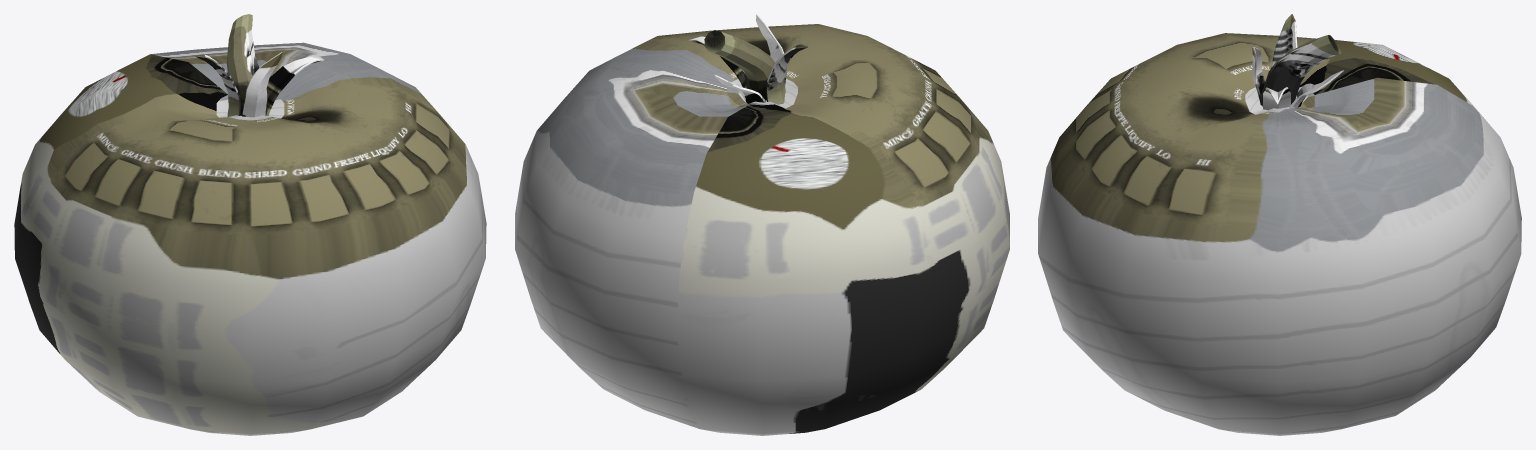
The model's file is Kitchen_Tomato.fbx.
The picture shows the model from 3 angles, left to right: view 1: azimuth 30°, elevation 25°; view 2: azimuth 150°, elevation 25°; view 3: azimuth 270°, elevation 25°; orthographic projection. The views are drawn at different scales.
Visible parts, largest first — view 1: Kitchen_Tomato; view 2: Kitchen_Tomato; view 3: Kitchen_Tomato.
Part boxes in pixels (x1,y1,x2,y2): Kitchen_Tomato: (14,14,486,435); Kitchen_Tomato: (515,14,1009,435); Kitchen_Tomato: (1038,14,1521,435).
Size of the model in its own units: 158 by 134 by 156.
